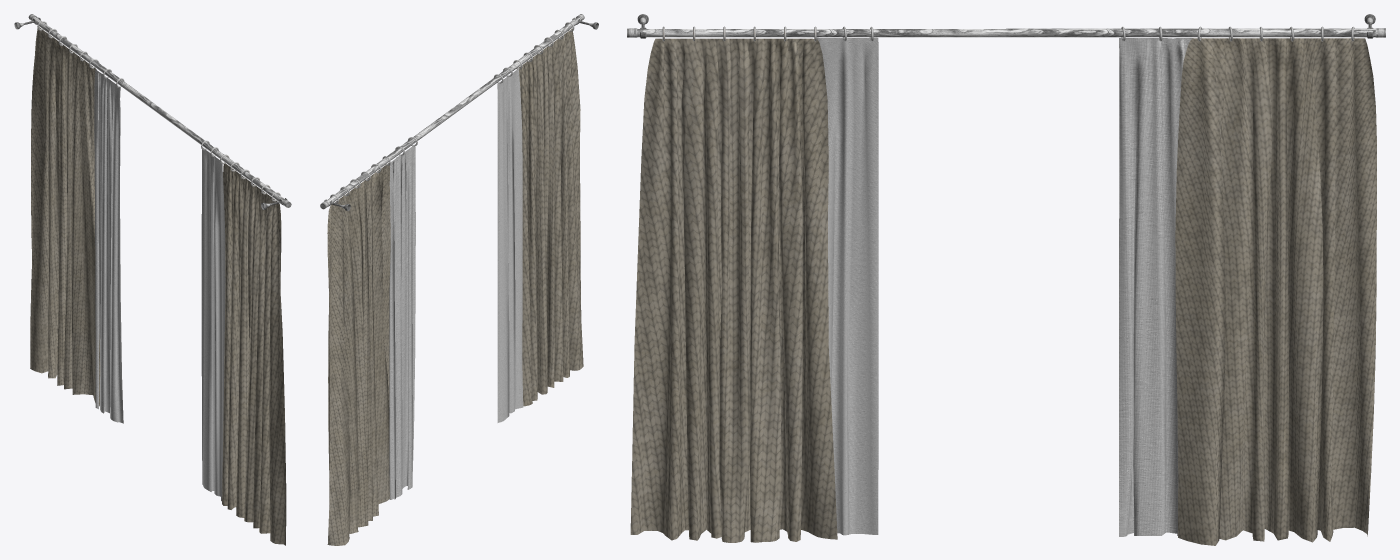
File: SM_Curtains_A1.fbx
3 views of the same model, side by side, from view 1: azimuth 30°, elevation 25°; view 2: azimuth 150°, elevation 25°; view 3: azimuth 270°, elevation 25° (orthographic). The views are drawn at different scales.
Parts seen in each view (by area): view 1: SM_Curtains_A1; view 2: SM_Curtains_A1; view 3: SM_Curtains_A1.
Part boxes in pixels (bbox=[...]): SM_Curtains_A1: bbox=[14, 14, 291, 545]; SM_Curtains_A1: bbox=[320, 14, 598, 545]; SM_Curtains_A1: bbox=[627, 14, 1385, 545].
Size of the model in its own units: 24.24 by 301 by 223.
5 materials, 5 textured.
